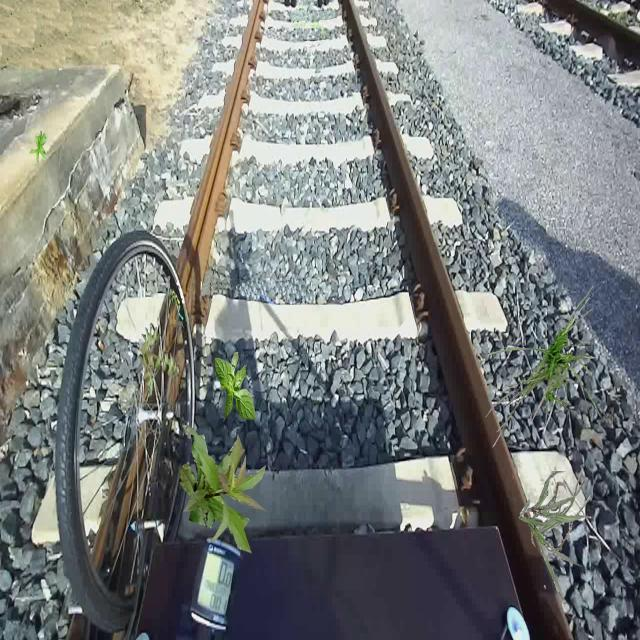Plant: (485, 285, 604, 448), (180, 424, 268, 554), (519, 471, 592, 596), (139, 326, 180, 398), (215, 352, 256, 423), (29, 131, 46, 163)
